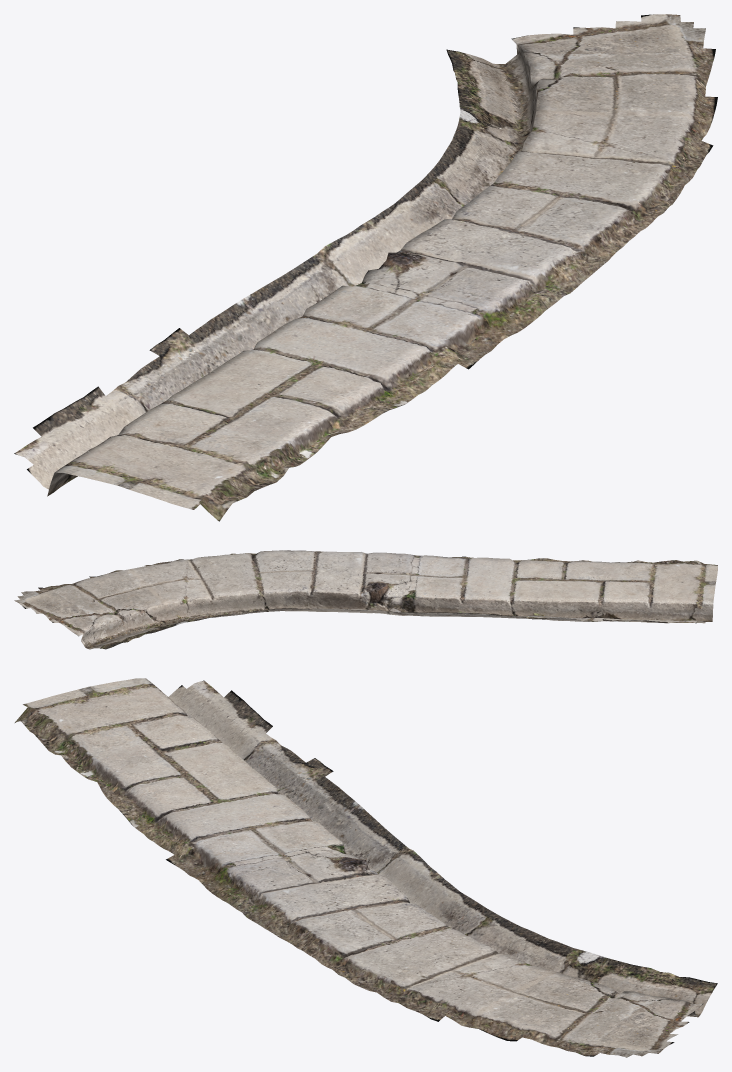
File: pathway.glb
3 views of the same model, one above another, from view 1: azimuth 30°, elevation 25°; view 2: azimuth 150°, elevation 25°; view 3: azimuth 270°, elevation 25° (orthographic). The views are drawn at different scales.
Visible parts, largest first — view 1: meteo_path_low_2; view 2: meteo_path_low_2; view 3: meteo_path_low_2.
Boxes of the visible parts, x1,y1,x2,y2 form: meteo_path_low_2: (14,14,717,521); meteo_path_low_2: (14,550,717,649); meteo_path_low_2: (15,678,717,1057).
Size of the model in its own units: 6.73 by 0.2791 by 5.19.
1 material, 1 textured.
